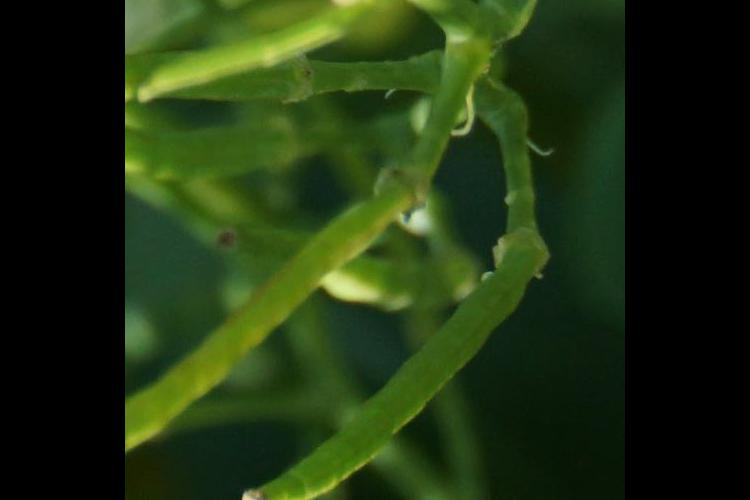pod: (239, 225, 530, 500)
